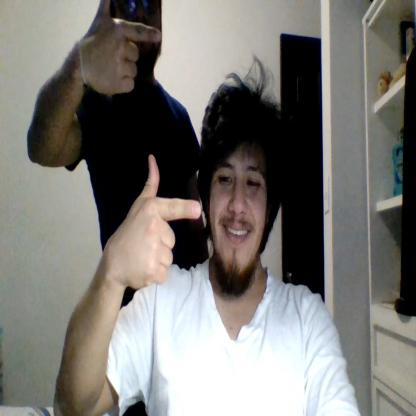G: (125, 153, 201, 287), (86, 0, 162, 93)
